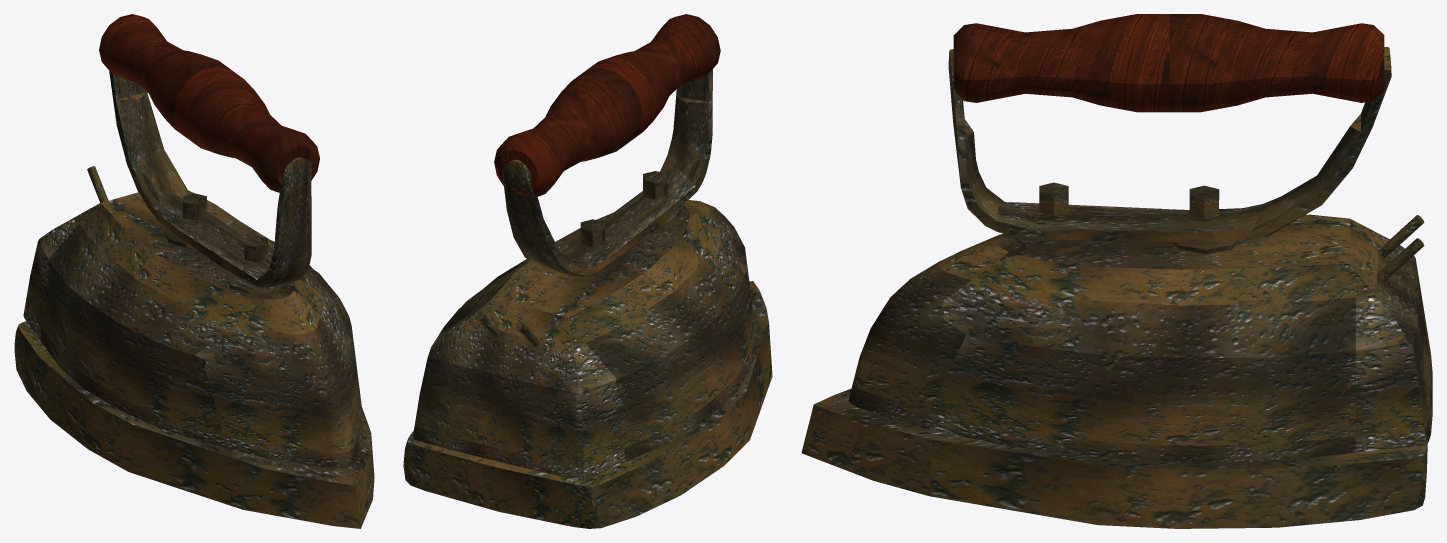
File: ELECTIRO.fbx
3 renders of one model, left to right at view 1: azimuth 30°, elevation 25°; view 2: azimuth 150°, elevation 25°; view 3: azimuth 270°, elevation 25°, orthographic. The views are drawn at different scales.
Parts seen in each view (by area): view 1: E001chro, E001blck, E001hand, E001gold; view 2: E001chro, E001blck, E001hand, E001gold; view 3: E001chro, E001blck, E001hand, E001gold.
Boxes of the visible parts, x1,y1,x2,y2 form: E001chro: (23, 190, 363, 468); E001blck: (14, 227, 374, 528); E001hand: (99, 14, 319, 192); E001gold: (87, 70, 311, 288); E001chro: (412, 200, 756, 480); E001blck: (403, 207, 772, 528); E001hand: (494, 14, 720, 196); E001gold: (476, 69, 712, 346); E001chro: (848, 214, 1432, 462); E001blck: (801, 236, 1427, 528); E001hand: (953, 14, 1384, 112); E001gold: (948, 47, 1424, 281).
Bounding box in the file's own units: 4469 × 6334 × 8275.
Materials: 4 (4 with a texture image).
